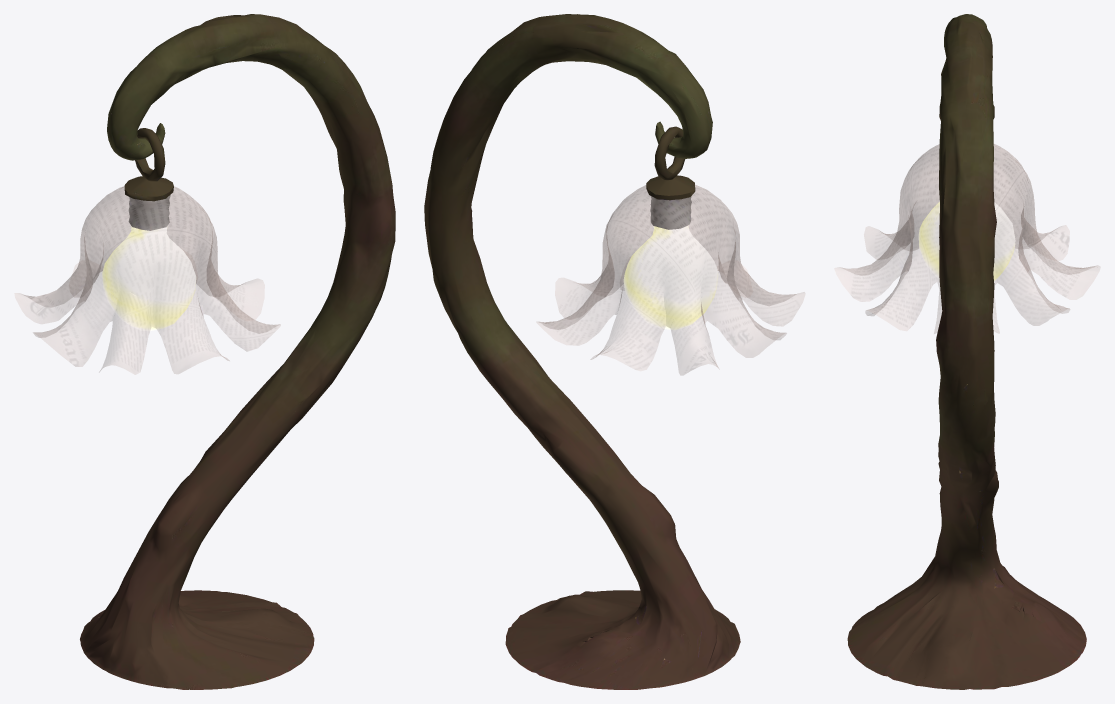
The model's file is 3d-den-san-xoan.glb.
The picture shows the model from 3 angles, left to right: view 1: azimuth 30°, elevation 25°; view 2: azimuth 150°, elevation 25°; view 3: azimuth 270°, elevation 25°; orthographic projection.
Bounding box in the file's own units: 1.13 × 1.86 × 0.7216.
Materials: 3 (3 with a texture image).
